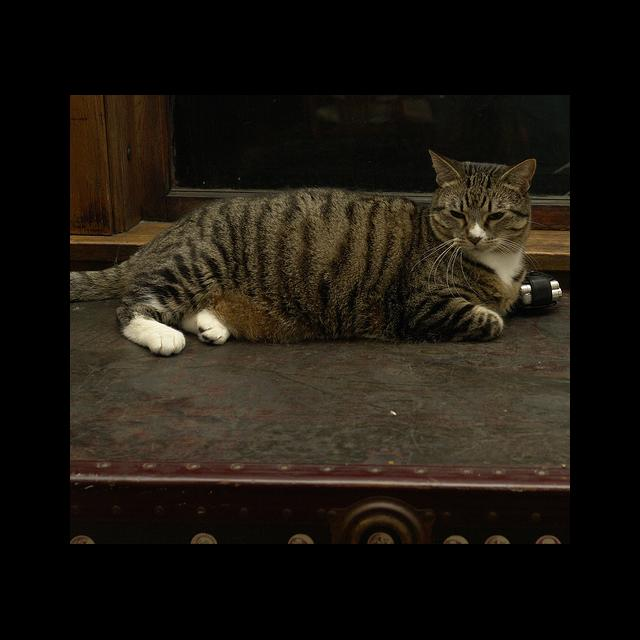animals: (429, 150, 534, 244)
